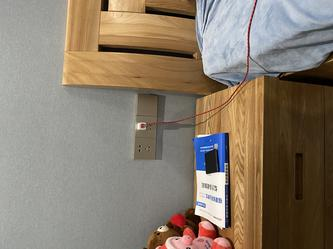switch: (141, 98, 162, 117)
